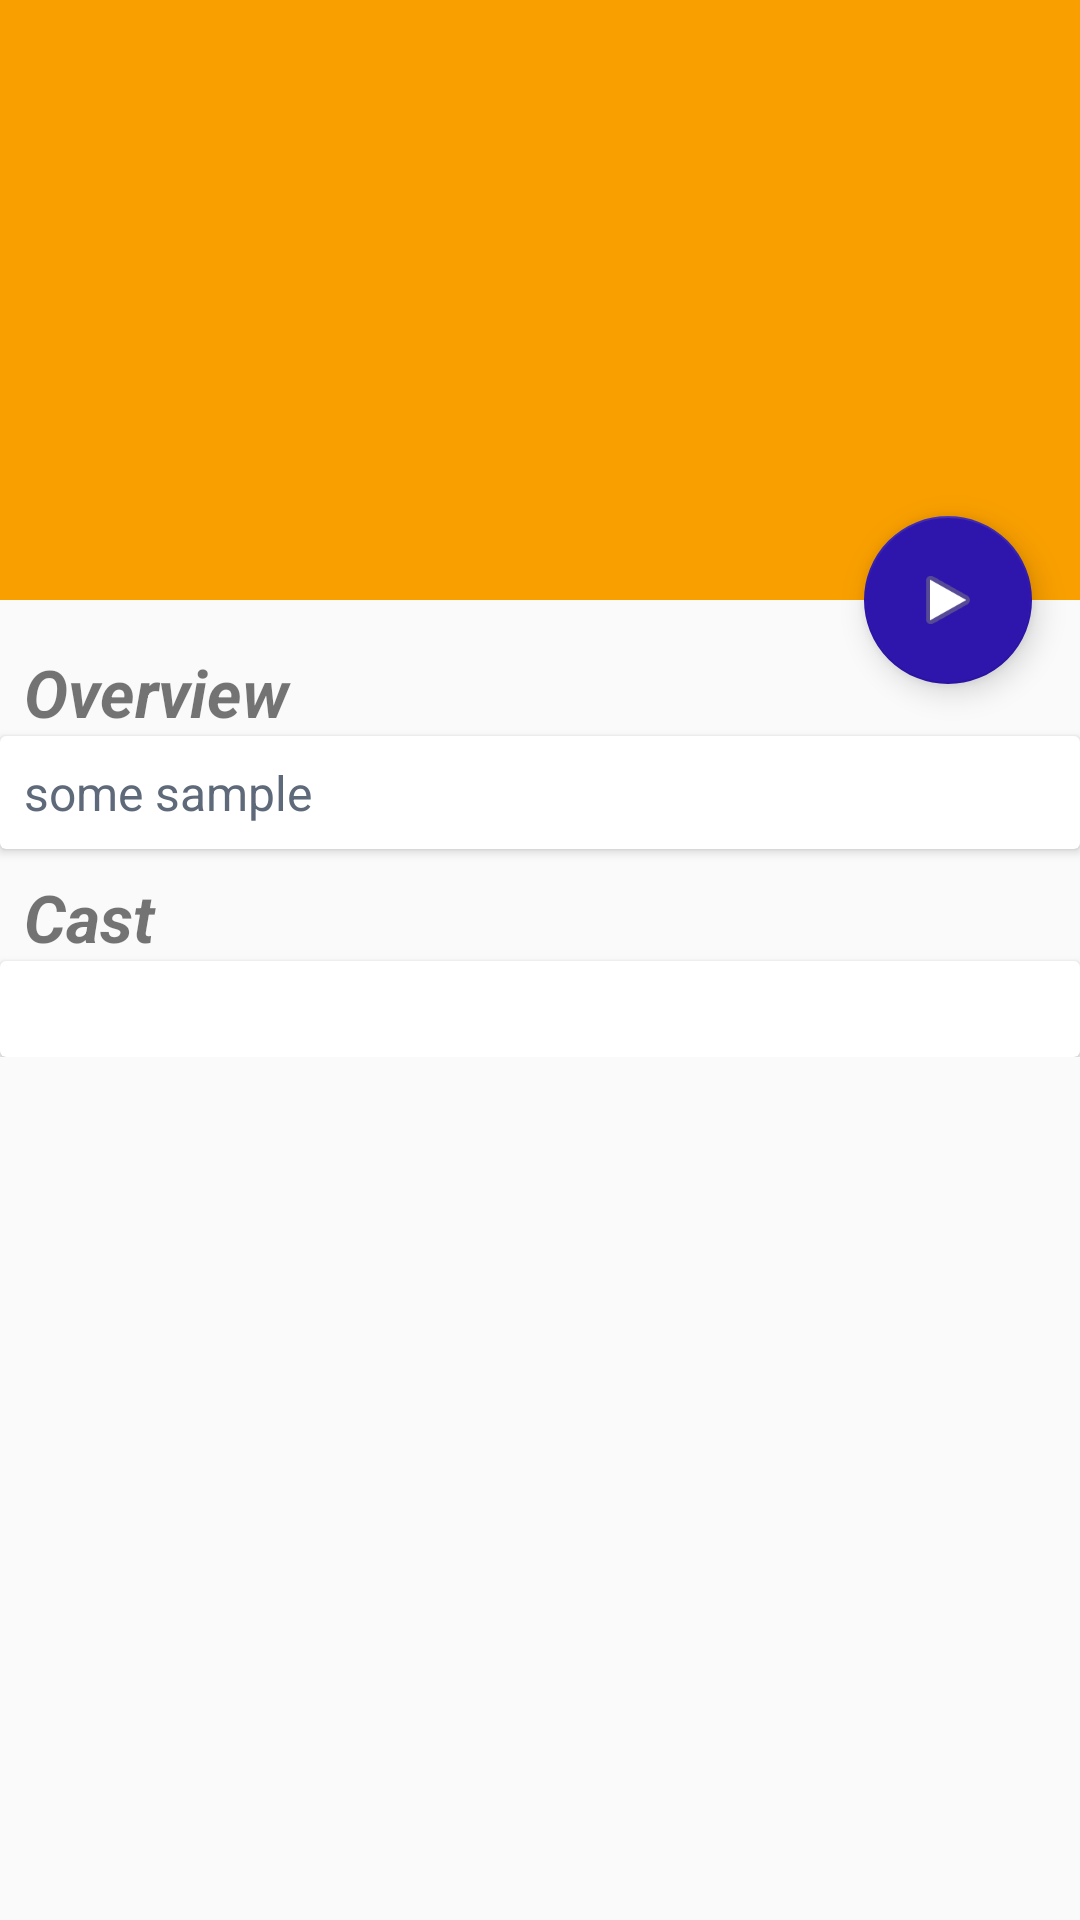

Where to tap for icons on this 1080 x 1920 app screen, as point (x, y):
play: point (948, 600)
